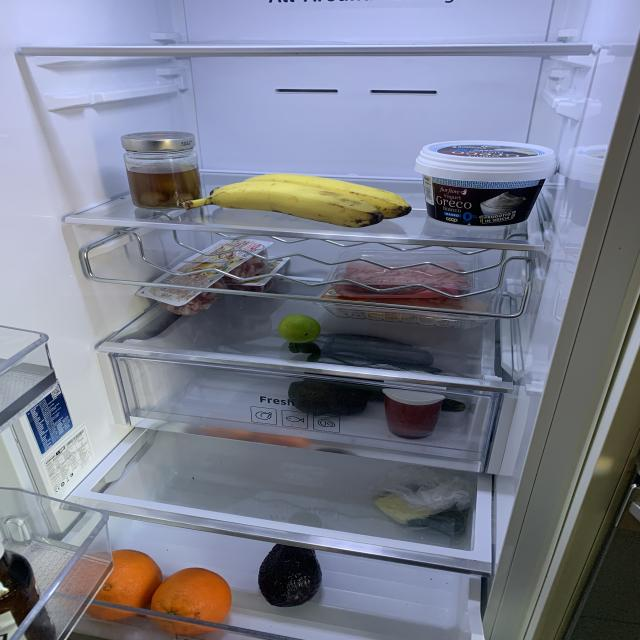avocado: (260, 544, 323, 608), (288, 380, 367, 415)
bacon: (160, 282, 225, 313), (220, 250, 266, 284), (230, 280, 274, 294)
banana: (187, 173, 409, 229)
chicken_breast: (339, 299, 484, 327)
courgettes: (286, 334, 454, 374), (306, 373, 466, 411)
ground_beef: (344, 264, 464, 292)
lime: (280, 314, 320, 344)
olives: (125, 167, 202, 210)
orange: (80, 551, 161, 619), (149, 567, 231, 632)
tomato_sauce: (381, 374, 441, 436)
yoghurt: (415, 138, 558, 226)
